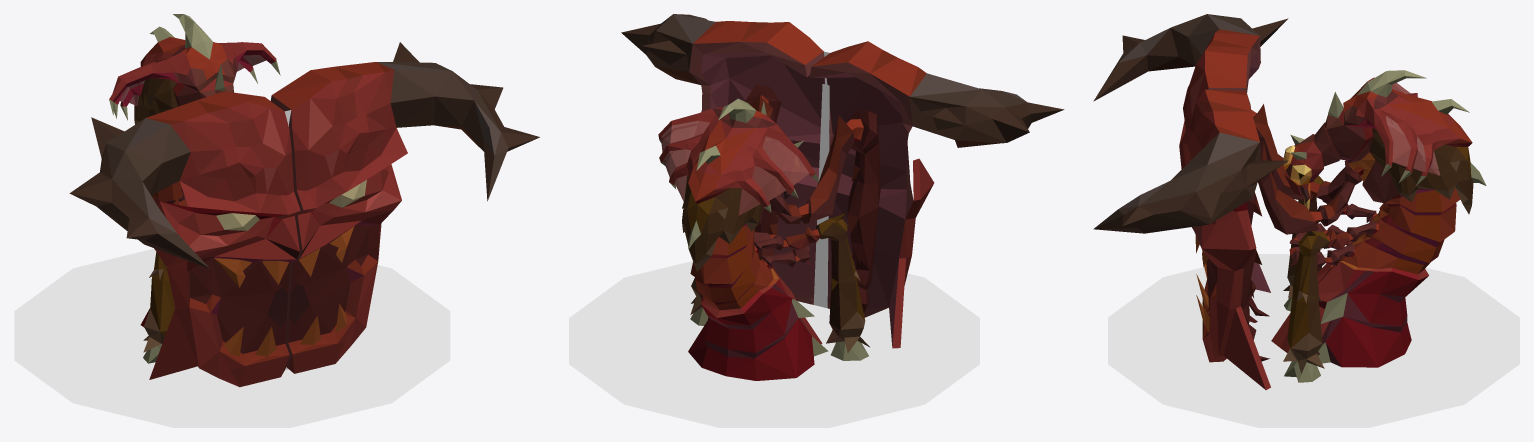
Rendered from doom-of-mokhaiotl.gltf.
3 renders of one model, left to right at view 1: azimuth 30°, elevation 25°; view 2: azimuth 150°, elevation 25°; view 3: azimuth 270°, elevation 25°, orthographic. The views are drawn at different scales.
Bounding box in the file's own units: 644 × 414 × 580.
2 materials, 2 textured.
